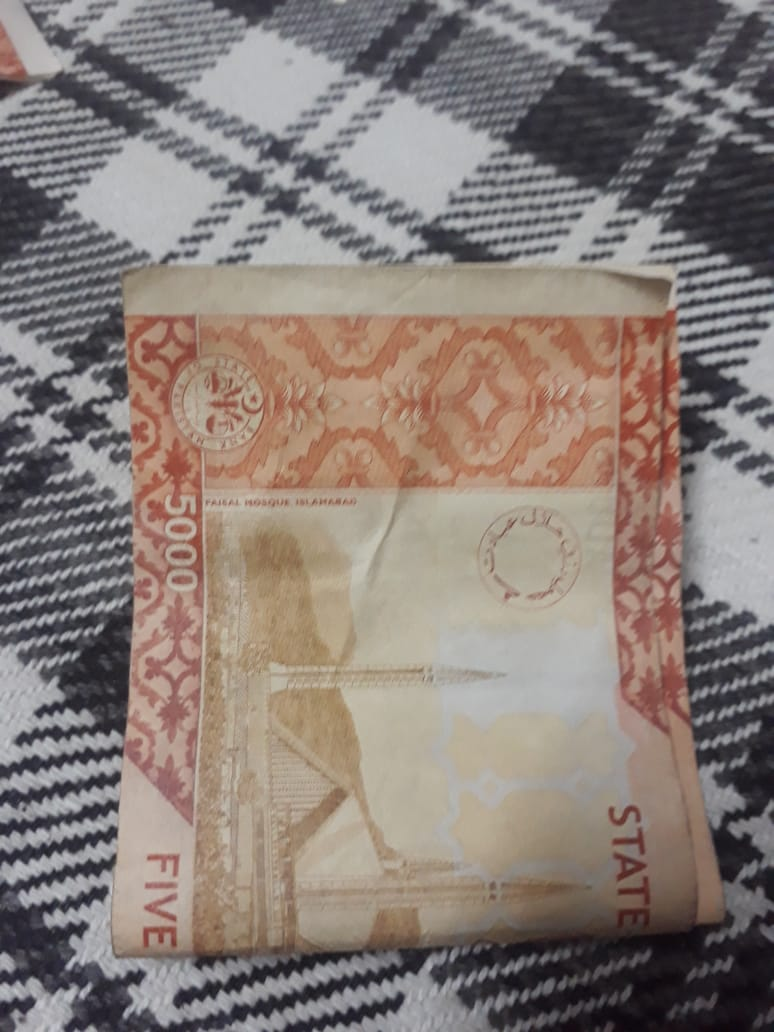5000 rupee: (84, 248, 730, 1014)
